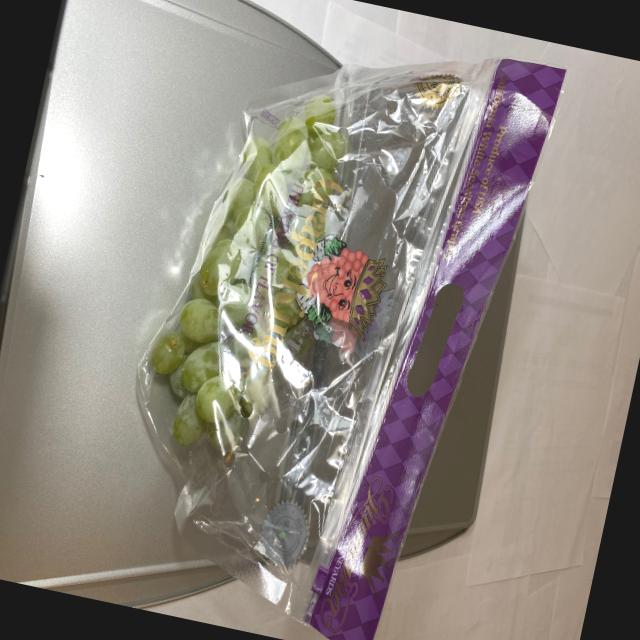grapes: (142, 68, 352, 474)
